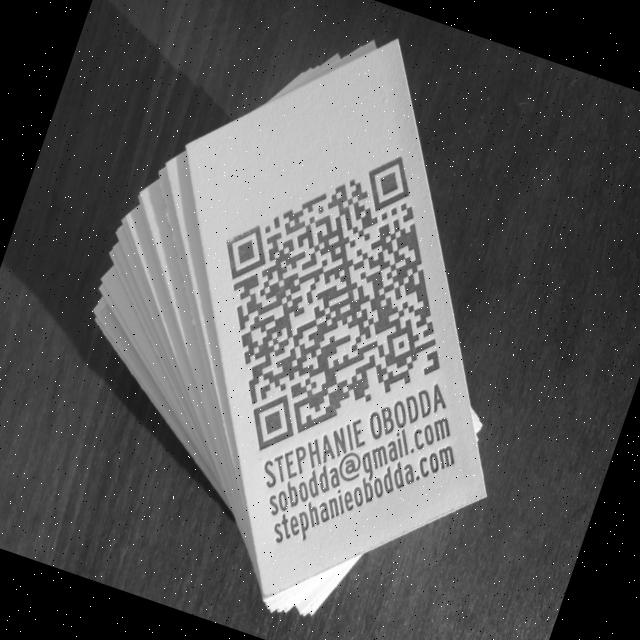QR-codes: (172, 109, 492, 478)
